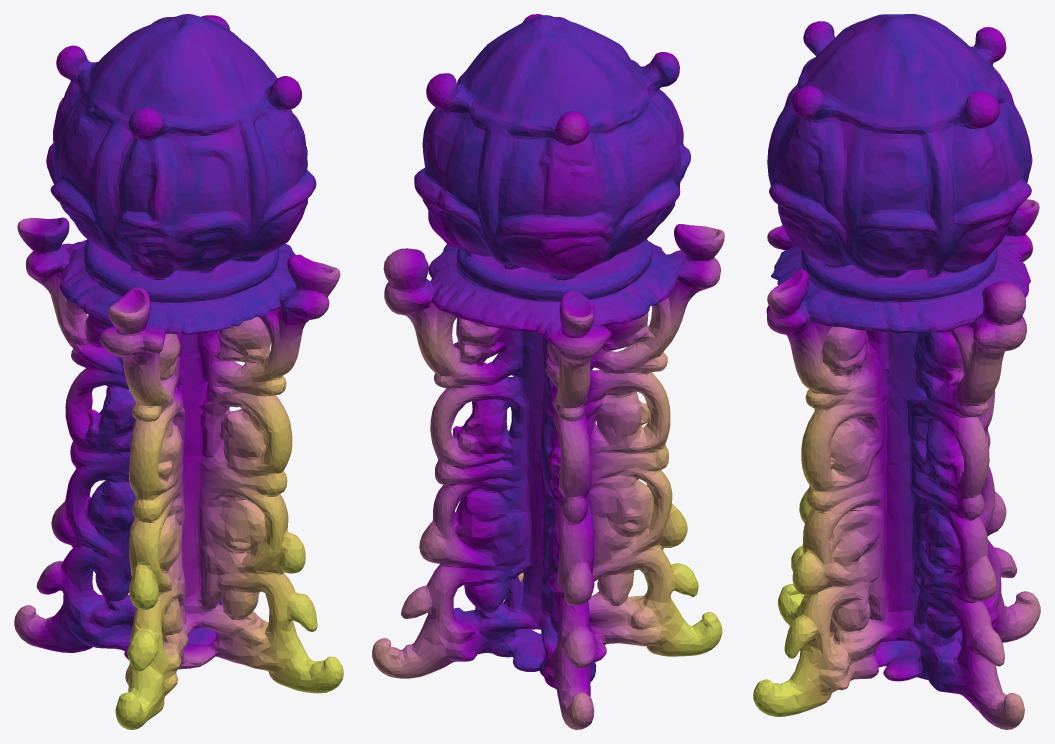
Rendered from iter_13.glb.
3 renders of one model, left to right at view 1: azimuth 30°, elevation 25°; view 2: azimuth 150°, elevation 25°; view 3: azimuth 270°, elevation 25°, orthographic. The views are drawn at different scales.
Parts seen in each view (by area): view 1: textured_mesh; view 2: textured_mesh; view 3: textured_mesh.
Part boxes in pixels (box(x1,y1,x2,y2)): textured_mesh: box(14, 14, 343, 729); textured_mesh: box(372, 14, 724, 729); textured_mesh: box(753, 14, 1040, 729).
Bounding box in the file's own units: 0.7876 × 1.99 × 0.784.
